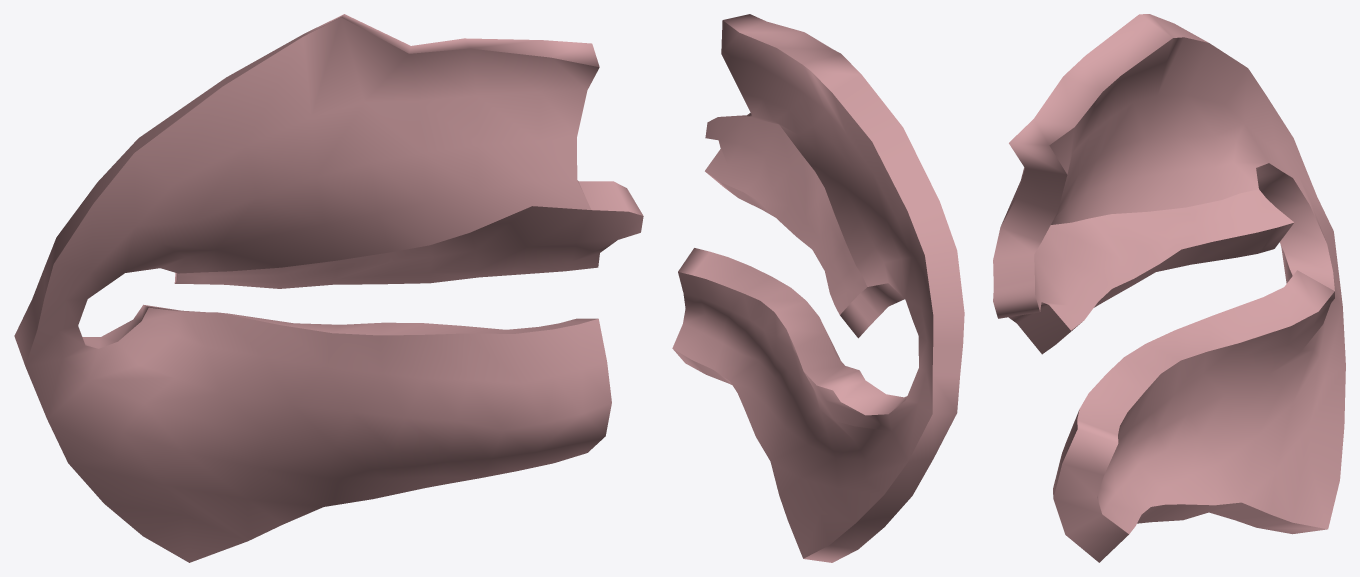
3 renders of one model, left to right at view 1: azimuth 30°, elevation 25°; view 2: azimuth 150°, elevation 25°; view 3: azimuth 270°, elevation 25°, orthographic. The views are drawn at different scales.
Visible parts, largest first — view 1: ZA_1336d75d13054ba6; view 2: ZA_1336d75d13054ba6; view 3: ZA_1336d75d13054ba6.
Boxes of the visible parts, x1,y1,x2,y2 form: ZA_1336d75d13054ba6: (14, 14, 643, 562); ZA_1336d75d13054ba6: (672, 14, 964, 562); ZA_1336d75d13054ba6: (993, 14, 1345, 562).
Bounding box in the file's own units: 0.0345 × 0.0417 × 0.0242.
